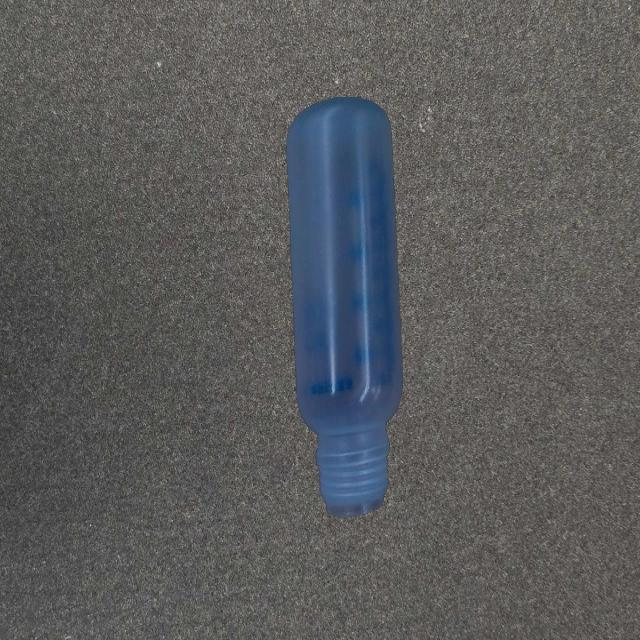bottle: (285, 94, 404, 522)
